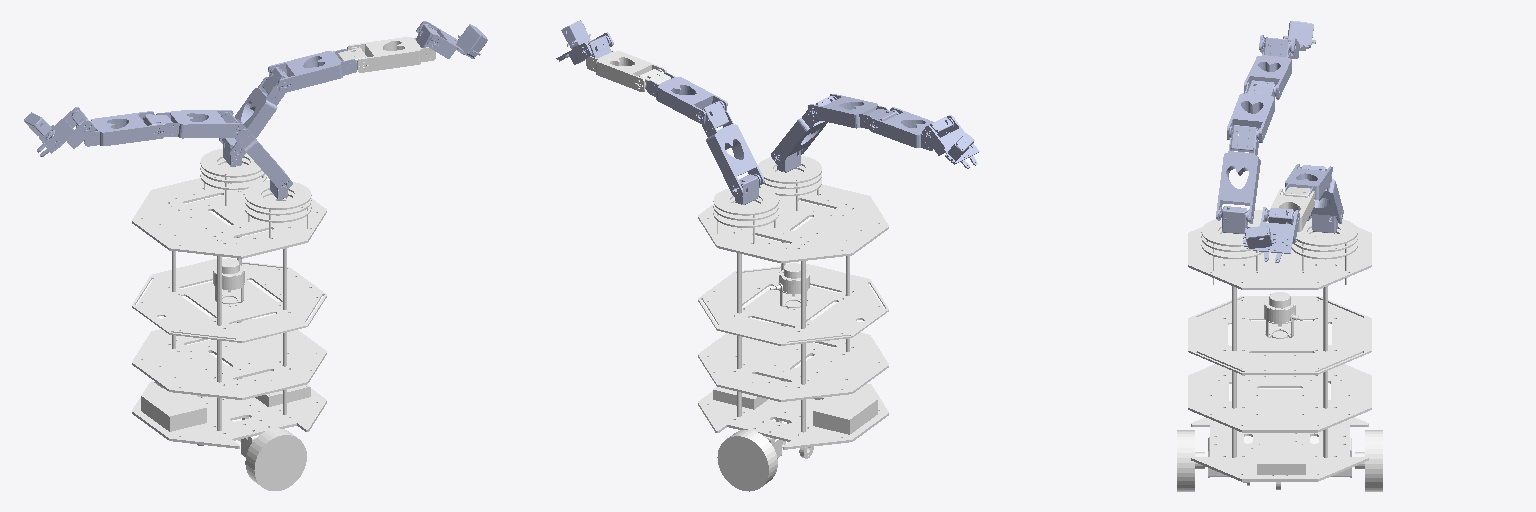
URDF robot description (cleaner_robot):
<?xml version='1.0' encoding='utf-8'?>
<robot name="cleaner_robot">
  <link name="base_link">
    <inertial>
      <origin xyz="-0.000344080345321185 0.000533176091644799 0.125833408068957" rpy="0 0 0" />
      <mass value="1.79792483529716" />
      <inertia ixx="0.00708743967331854" ixy="-1.67250092831856E-06" ixz="-2.56694499270585E-06" iyy="0.00775133225150792" iyz="2.5645780575692E-06" izz="0.0132642473155824" />
    </inertial>
    <visual>
      <origin xyz="0 0 0" rpy="0 0 0" />
      <geometry>
        <mesh filename="package://robot_description/meshes/base_link.STL" />
      </geometry>
      <material name="">
        <color rgba="1 1 1 1" />
      </material>
    </visual>
    <collision>
      <origin xyz="0 0 0" rpy="0 0 0" />
      <geometry>
        <mesh filename="package://robot_description/meshes/base_link.STL" />
      </geometry>
    </collision>
  </link>
  <link name="left_wheel_link">
    <inertial>
      <origin xyz="0 -0.0158823469073751 0" rpy="0 0 0" />
      <mass value="0.245019094238775" />
      <inertia ixx="0.000170397528015319" ixy="2.70954898850681E-20" ixz="-3.69449796828622E-20" iyy="0.000295487774909046" iyz="4.74974642515837E-21" izz="0.000170397528015319" />
    </inertial>
    <visual>
      <origin xyz="0 0 0" rpy="0 0 0" />
      <geometry>
        <mesh filename="package://robot_description/meshes/left_wheel_link.STL" />
      </geometry>
      <material name="">
        <color rgba="1 1 1 1" />
      </material>
    </visual>
    <collision>
      <origin xyz="0 0 0" rpy="0 0 0" />
      <geometry>
        <mesh filename="package://robot_description/meshes/left_wheel_link.STL" />
      </geometry>
    </collision>
  </link>
  <joint name="left_wheel_joint" type="continuous">
    <origin xyz="0 0.16894 -0.0365" rpy="0 0 -0.00029697" />
    <parent link="base_link" />
    <child link="left_wheel_link" />
    <axis xyz="0 -1 0" />
  </joint>
  <link name="right_wheel_link">
    <inertial>
      <origin xyz="2.22044604925031E-16 0.0158823469073751 0" rpy="0 0 0" />
      <mass value="0.245019094238775" />
      <inertia ixx="0.000170397528015319" ixy="-2.24387636901415E-19" ixz="4.70810245114766E-20" iyy="0.000295487774909046" iyz="3.37322214386115E-21" izz="0.000170397528015319" />
    </inertial>
    <visual>
      <origin xyz="0 0 0" rpy="0 0 0" />
      <geometry>
        <mesh filename="package://robot_description/meshes/right_wheel_link.STL" />
      </geometry>
      <material name="">
        <color rgba="1 1 1 1" />
      </material>
    </visual>
    <collision>
      <origin xyz="0 0 0" rpy="0 0 0" />
      <geometry>
        <mesh filename="package://robot_description/meshes/right_wheel_link.STL" />
      </geometry>
    </collision>
  </link>
  <joint name="right_wheel_joint" type="continuous">
    <origin xyz="-0.0001055 -0.16886 -0.0365" rpy="0 0 -0.00029697" />
    <parent link="base_link" />
    <child link="right_wheel_link" />
    <axis xyz="0 1 0" />
  </joint>
  <link name="left_arm_link1">
    <inertial>
      <origin xyz="-0.0069298612607549 0.0005712022527668 0.00694973767568825" rpy="0 0 0" />
      <mass value="0.0736030136096212" />
      <inertia ixx="1.71009547325287E-05" ixy="-1.0044654939204E-08" ixz="1.3046239968496E-06" iyy="3.28183215735376E-05" iyz="1.09734645981564E-08" izz="1.7031597088664E-05" />
    </inertial>
    <visual>
      <origin xyz="0 0 0" rpy="0 0 0" />
      <geometry>
        <mesh filename="package://robot_description/meshes/left_arm_link1.STL" />
      </geometry>
      <material name="">
        <color rgba="0.792156862745098 0.819607843137255 0.933333333333333 1" />
      </material>
    </visual>
    <collision>
      <origin xyz="0 0 0" rpy="0 0 0" />
      <geometry>
        <mesh filename="package://robot_description/meshes/left_arm_link1.STL" />
      </geometry>
    </collision>
  </link>
  <joint name="left_arm_joint1" type="revolute">
    <origin xyz="0.054805 0.077261 0.38578" rpy="1.5708 0 -0.00029697" />
    <parent link="base_link" />
    <child link="left_arm_link1" />
    <axis xyz="0 -1 0" />
    <limit lower="-2.80" upper="2.80" effort="10.0" velocity="1.0" />
  </joint>
  <link name="left_arm_link2">
    <inertial>
      <origin xyz="0.0261792273647214 -0.00691216193949627 0.0443385877435112" rpy="0 0 0" />
      <mass value="0.126148587657752" />
      <inertia ixx="9.31622632507463E-05" ixy="1.27595734721005E-07" ixz="-3.56773187590177E-05" iyy="9.10897191919102E-05" iyz="8.00605871502363E-06" izz="6.84008727854335E-05" />
    </inertial>
    <visual>
      <origin xyz="0 0 0" rpy="0 0 0" />
      <geometry>
        <mesh filename="package://robot_description/meshes/left_arm_link2.STL" />
      </geometry>
      <material name="">
        <color rgba="0.792156862745098 0.819607843137255 0.933333333333333 1" />
      </material>
    </visual>
    <collision>
      <origin xyz="0 0 0" rpy="0 0 0" />
      <geometry>
        <mesh filename="package://robot_description/meshes/left_arm_link2.STL" />
      </geometry>
    </collision>
  </link>
  <joint name="left_arm_joint2" type="revolute">
    <origin xyz="-0.0065705 0.035541 0.0042456" rpy="-1.5708 0 0" />
    <parent link="left_arm_link1" />
    <child link="left_arm_link2" />
    <axis xyz="0.20468 0.9788 0.0069813" />
    <limit lower="-1.80" upper="1.80" effort="10.0" velocity="1.0" />
  </joint>
  <link name="left_arm_link3">
    <inertial>
      <origin xyz="0.0485083228171423 -0.0109867814152197 0.0120300433864008" rpy="0 0 0" />
      <mass value="0.126151768960196" />
      <inertia ixx="4.62683917537397E-05" ixy="9.9396493897661E-06" ixz="-1.04787055604338E-05" iyy="8.90450294553907E-05" iyz="2.06567924600011E-06" izz="0.000117341846648233" />
    </inertial>
    <visual>
      <origin xyz="0 0 0" rpy="0 0 0" />
      <geometry>
        <mesh filename="package://robot_description/meshes/left_arm_link3.STL" />
      </geometry>
      <material name="">
        <color rgba="0.792156862745098 0.819607843137255 0.933333333333333 1" />
      </material>
    </visual>
    <collision>
      <origin xyz="0 0 0" rpy="0 0 0" />
      <geometry>
        <mesh filename="package://robot_description/meshes/left_arm_link3.STL" />
      </geometry>
    </collision>
  </link>
  <joint name="left_arm_joint3" type="revolute">
    <origin xyz="0.074168 -0.016647 0.11174" rpy="0 0 0" />
    <parent link="left_arm_link2" />
    <child link="left_arm_link3" />
    <axis xyz="0.20468 0.9788 0.0069813" />
    <limit lower="-2.20" upper="2.20" effort="10.0" velocity="1.0" />
  </joint>
  <link name="left_arm_link4">
    <inertial>
      <origin xyz="0.0381502566686517 0.00297228914422276 0.0370293720163983" rpy="0 0 0" />
      <mass value="0.126147771338568" />
      <inertia ixx="7.78104305349518E-05" ixy="-7.53563847056212E-06" ixz="-3.8150795616397E-05" iyy="9.34092469739685E-05" iyz="3.70863682277848E-06" izz="8.14331154867161E-05" />
    </inertial>
    <visual>
      <origin xyz="0 0 0" rpy="0 0 0" />
      <geometry>
        <mesh filename="package://robot_description/meshes/left_arm_link4.STL" />
      </geometry>
      <material name="">
        <color rgba="1 1 1 1" />
      </material>
    </visual>
    <collision>
      <origin xyz="0 0 0" rpy="0 0 0" />
      <geometry>
        <mesh filename="package://robot_description/meshes/left_arm_link4.STL" />
      </geometry>
    </collision>
  </link>
  <joint name="left_arm_joint4" type="revolute">
    <origin xyz="0.12921 -0.027062 0.023531" rpy="0.3985 0.72207 0" />
    <parent link="left_arm_link3" />
    <child link="left_arm_link4" />
    <axis xyz="0.14899 0.95664 -0.2503" />
    <limit lower="-2.60" upper="2.60" effort="10.0" velocity="1.0" />
  </joint>
  <link name="left_arm_link5">
    <inertial>
      <origin xyz="0.0166365070755845 -0.00476882113712597 -0.00480347346156407" rpy="0 0 0" />
      <mass value="0.0664694386160321" />
      <inertia ixx="1.97693702056433E-05" ixy="-1.06569329721196E-06" ixz="1.24877876251858E-06" iyy="1.49012039435537E-05" iyz="-3.31688148428128E-07" izz="2.26600442466418E-05" />
    </inertial>
    <visual>
      <origin xyz="0 0 0" rpy="0 0 0" />
      <geometry>
        <mesh filename="package://robot_description/meshes/left_arm_link5.STL" />
      </geometry>
      <material name="">
        <color rgba="0.792156862745098 0.819607843137255 0.933333333333333 1" />
      </material>
    </visual>
    <collision>
      <origin xyz="0 0 0" rpy="0 0 0" />
      <geometry>
        <mesh filename="package://robot_description/meshes/left_arm_link5.STL" />
      </geometry>
    </collision>
  </link>
  <joint name="left_arm_joint5" type="revolute">
    <origin xyz="0.083223 0.012799 0.097966" rpy="-0.51128 -0.65499 0.32931" />
    <parent link="left_arm_link4" />
    <child link="left_arm_link5" />
    <axis xyz="0.20468 0.9788 0.0069813" />
    <limit lower="-3.14" upper="3.14" effort="10.0" velocity="1.0" />
  </joint>
  <link name="left_arm_link6">
    <inertial>
      <origin xyz="-0.00108359366242761 -0.00483143330866981 0.0157749569106866" rpy="0 0 0" />
      <mass value="0.0288704004761344" />
      <inertia ixx="4.0915180826276E-06" ixy="3.12578364108231E-07" ixz="-2.37649825944419E-07" iyy="1.91808524154185E-06" iyz="3.97643093016539E-07" izz="4.74750099099835E-06" />
    </inertial>
    <visual>
      <origin xyz="0 0 0" rpy="0 0 0" />
      <geometry>
        <mesh filename="package://robot_description/meshes/left_arm_link6.STL" />
      </geometry>
      <material name="">
        <color rgba="0.792156862745098 0.819607843137255 0.933333333333333 1" />
      </material>
    </visual>
    <collision>
      <origin xyz="0 0 0" rpy="0 0 0" />
      <geometry>
        <mesh filename="package://robot_description/meshes/left_arm_link6.STL" />
      </geometry>
    </collision>
  </link>
  <joint name="left_arm_joint6" type="fixed">
    <origin xyz="0.049632 -0.024994 -0.016718" rpy="0.23628 0.91488 0" />
    <parent link="left_arm_link5" />
    <child link="left_arm_link6" />
    <axis xyz="0 0 0" />
  </joint>
  <link name="right_arm_link1">
    <inertial>
      <origin xyz="0.000354728859723652 0.00270471202658126 -0.0349701784624039" rpy="0 0 0" />
      <mass value="0.0736030138394422" />
      <inertia ixx="1.71053921210683E-05" ixy="-1.30449849267024E-06" ixz="1.00259785830582E-08" iyy="1.70271597164862E-05" iyz="1.0990530151657E-08" izz="3.28183215760568E-05" />
    </inertial>
    <visual>
      <origin xyz="0 0 0" rpy="0 0 0" />
      <geometry>
        <mesh filename="package://robot_description/meshes/right_arm_link1.STL" />
      </geometry>
      <material name="">
        <color rgba="0.792156862745098 0.819607843137255 0.933333333333333 1" />
      </material>
    </visual>
    <collision>
      <origin xyz="0 0 0" rpy="0 0 0" />
      <geometry>
        <mesh filename="package://robot_description/meshes/right_arm_link1.STL" />
      </geometry>
    </collision>
  </link>
  <joint name="right_arm_joint1" type="revolute">
    <origin xyz="0.05178 -0.073834 0.42133" rpy="0 0 -0.00029697" />
    <parent link="base_link" />
    <child link="right_arm_link1" />
    <axis xyz="-0.20302 -0.97915 0.0069813" />
    <limit lower="-2.80" upper="2.80" effort="10.0" velocity="1.0" />
  </joint>
  <link name="right_arm_link2">
    <inertial>
      <origin xyz="-0.0280691893802798 0.0026484695262327 0.0798030999072736" rpy="0 0 0" />
      <mass value="0.126148583043195" />
      <inertia ixx="9.31618235690418E-05" ixy="1.3111957690714E-07" ixz="3.56908834104233E-05" iyy="9.10901597827384E-05" iyz="-7.94536985001749E-06" izz="6.84008728929245E-05" />
    </inertial>
    <visual>
      <origin xyz="0 0 0" rpy="0 0 0" />
      <geometry>
        <mesh filename="package://robot_description/meshes/right_arm_link2.STL" />
      </geometry>
      <material name="">
        <color rgba="0.792156862745098 0.819607843137255 0.933333333333333 1" />
      </material>
    </visual>
    <collision>
      <origin xyz="0 0 0" rpy="0 0 0" />
      <geometry>
        <mesh filename="package://robot_description/meshes/right_arm_link2.STL" />
      </geometry>
    </collision>
  </link>
  <joint name="right_arm_joint2" type="revolute">
    <origin xyz="0.0018782 0.0042192 -0.035465" rpy="0 0 0" />
    <parent link="right_arm_link1" />
    <child link="right_arm_link2" />
    <axis xyz="0 0 -1" />
    <limit lower="-1.80" upper="1.80" effort="10.0" velocity="1.0" />
  </joint>
  <link name="right_arm_link3">
    <inertial>
      <origin xyz="-0.0485269374948858 0.0109042662535283 0.01203004323139" rpy="0 0 0" />
      <mass value="0.126151767440047" />
      <inertia ixx="4.62347064911695E-05" ixy="9.8668410552125E-06" ixz="1.04822035306423E-05" iyy="8.90787147312364E-05" iyz="-2.04785495223711E-06" izz="0.000117341846669857" />
    </inertial>
    <visual>
      <origin xyz="0 0 0" rpy="0 0 0" />
      <geometry>
        <mesh filename="package://robot_description/meshes/right_arm_link3.STL" />
      </geometry>
      <material name="">
        <color rgba="0.792156862745098 0.819607843137255 0.933333333333333 1" />
      </material>
    </visual>
    <collision>
      <origin xyz="0 0 0" rpy="0 0 0" />
      <geometry>
        <mesh filename="package://robot_description/meshes/right_arm_link3.STL" />
      </geometry>
    </collision>
  </link>
  <joint name="right_arm_joint3" type="revolute">
    <origin xyz="-0.076075 0.012302 0.14721" rpy="0 0 0" />
    <parent link="right_arm_link2" />
    <child link="right_arm_link3" />
    <axis xyz="-0.20302 -0.97915 0.0069813" />
    <limit lower="-2.20" upper="2.20" effort="10.0" velocity="1.0" />
  </joint>
  <link name="right_arm_link4">
    <inertial>
      <origin xyz="-0.0519679316733236 0.0115409737118173 0.00126136628000229" rpy="0 0 0" />
      <mass value="0.126147775129486" />
      <inertia ixx="4.35236244903886E-05" ixy="1.03640736176395E-05" ixz="8.03790477451258E-07" iyy="8.89887136123303E-05" iyz="3.63604638120832E-08" izz="0.000120140457422549" />
    </inertial>
    <visual>
      <origin xyz="0 0 0" rpy="0 0 0" />
      <geometry>
        <mesh filename="package://robot_description/meshes/right_arm_link4.STL" />
      </geometry>
      <material name="">
        <color rgba="0.792156862745098 0.819607843137255 0.933333333333333 1" />
      </material>
    </visual>
    <collision>
      <origin xyz="0 0 0" rpy="0 0 0" />
      <geometry>
        <mesh filename="package://robot_description/meshes/right_arm_link4.STL" />
      </geometry>
    </collision>
  </link>
  <joint name="right_arm_joint4" type="revolute">
    <origin xyz="-0.12926 0.026843 0.023531" rpy="0 0 0" />
    <parent link="right_arm_link3" />
    <child link="right_arm_link4" />
    <axis xyz="-0.20302 -0.97915 0.0069813" />
    <limit lower="-2.60" upper="2.60" effort="10.0" velocity="1.0" />
  </joint>
  <link name="right_arm_link5">
    <inertial>
      <origin xyz="-0.0166445934015594 0.00474052024562623 -0.00480347343569509" rpy="0 0 0" />
      <mass value="0.0664694387667511" />
      <inertia ixx="1.97729809996989E-05" ixy="-1.05740777734211E-06" ixz="-1.24934107149083E-06" iyy="1.48975931542826E-05" iyz="3.29563858476352E-07" izz="2.26600442559092E-05" />
    </inertial>
    <visual>
      <origin xyz="0 0 0" rpy="0 0 0" />
      <geometry>
        <mesh filename="package://robot_description/meshes/right_arm_link5.STL" />
      </geometry>
      <material name="">
        <color rgba="0.792156862745098 0.819607843137255 0.933333333333333 1" />
      </material>
    </visual>
    <collision>
      <origin xyz="0 0 0" rpy="0 0 0" />
      <geometry>
        <mesh filename="package://robot_description/meshes/right_arm_link5.STL" />
      </geometry>
    </collision>
  </link>
  <joint name="right_arm_joint5" type="revolute">
    <origin xyz="-0.12546 0.026005 0.016479" rpy="0 0 0" />
    <parent link="right_arm_link4" />
    <child link="right_arm_link5" />
    <axis xyz="-0.20302 -0.97915 0.0069813" />
    <limit lower="-3.14" upper="3.14" effort="10.0" velocity="1.0" />
  </joint>
  <link name="right_arm_link6">
    <inertial>
      <origin xyz="-0.0115533184838728 0.00854060078148404 0.0105346139657562" rpy="0 0 0" />
      <mass value="0.0288704007298745" />
      <inertia ixx="4.36721419214628E-06" ixy="-6.23795037742455E-09" ixz="-3.70810291945455E-07" iyy="1.89210690099238E-06" iyz="4.61075702078839E-07" izz="4.49778324487071E-06" />
    </inertial>
    <visual>
      <origin xyz="0 0 0" rpy="0 0 0" />
      <geometry>
        <mesh filename="package://robot_description/meshes/right_arm_link6.STL" />
      </geometry>
      <material name="">
        <color rgba="0.792156862745098 0.819607843137255 0.933333333333333 1" />
      </material>
    </visual>
    <collision>
      <origin xyz="0 0 0" rpy="0 0 0" />
      <geometry>
        <mesh filename="package://robot_description/meshes/right_arm_link6.STL" />
      </geometry>
    </collision>
  </link>
  <joint name="right_arm_joint6" type="revolute">
    <origin xyz="-0.048733 0.024741 -0.01773" rpy="0 0 0" />
    <parent link="right_arm_link5" />
    <child link="right_arm_link6" />
    <axis xyz="-0.60012 0.13006 0.78926" />
    <limit lower="-3.14" upper="3.14" effort="10.0" velocity="1.0" />
  </joint>
  <link name="laser_link" />
  <joint name="laser_joint" type="fixed">
    <parent link="base_link" />
    <child link="laser_link" />
    <origin xyz="0.0 0.0 0.032" rpy="0.0 0.0 2.0943951" />
  </joint>
  <link name="imu_link" />
  <joint name="imu_joint" type="fixed">
    <parent link="base_link" />
    <child link="imu_link" />
    <origin xyz="0.0 0.0 -0.09" rpy="0.0 0.0 0.0" />
  </joint>
</robot>

--- What the picture shows (computed from the rendered views, not written in the file) ---
3 views of the same robot in one strip: view 1: azimuth 30°, elevation 25°; view 2: azimuth 150°, elevation 25°; view 3: azimuth 270°, elevation 25° (orthographic).
Robot: cleaner_robot — 17 links, 16 joints (11 revolute, 2 continuous, 3 fixed); root link base_link; default pose: all joints at 0.
Links seen in each view (by area): view 1: base_link, right_wheel_link, left_arm_link3, left_arm_link4, right_arm_link4, right_arm_link3, left_arm_link2, right_arm_link2, right_arm_link5, left_arm_link5, left_arm_link6, right_arm_link6; view 2: base_link, left_wheel_link, left_arm_link2, left_arm_link3, left_arm_link4, right_arm_link4, right_arm_link3, right_arm_link2, right_arm_link5, left_arm_link5, left_arm_link6; view 3: base_link, right_arm_link2, right_arm_link3, right_arm_link4, left_arm_link5, left_wheel_link, right_wheel_link, left_arm_link2, left_arm_link3, left_arm_link4, right_arm_link5, left_arm_link6 (+1 smaller).
Boxes of the visible links, x1,y1,x2,y2 form: base_link: (132,149,326,457); right_wheel_link: (245,428,306,490); left_arm_link3: (262,49,356,95); left_arm_link4: (338,37,435,72); right_arm_link4: (76,111,173,146); right_arm_link3: (156,110,248,142); left_arm_link2: (219,77,284,166); right_arm_link2: (235,119,292,198); right_arm_link5: (39,107,95,153); left_arm_link5: (416,21,472,58); left_arm_link6: (457,24,487,58); right_arm_link6: (24,112,62,156); base_link: (698,156,888,458); left_wheel_link: (717,430,777,491); left_arm_link2: (702,111,764,204); left_arm_link3: (646,72,728,127); left_arm_link4: (586,50,670,91); right_arm_link4: (867,107,949,150); right_arm_link3: (808,94,888,128); right_arm_link2: (771,110,827,172); right_arm_link5: (922,115,979,164); left_arm_link5: (556,32,613,64); left_arm_link6: (559,20,590,61); base_link: (1188,210,1371,489); right_arm_link2: (1216,138,1260,233); right_arm_link3: (1227,87,1274,152); right_arm_link4: (1244,52,1291,99); left_arm_link5: (1253,207,1299,253); left_wheel_link: (1355,430,1382,491); right_wheel_link: (1177,430,1204,491); left_arm_link2: (1307,179,1343,233); left_arm_link3: (1285,164,1332,199); left_arm_link4: (1268,187,1314,231); right_arm_link5: (1259,35,1305,58); left_arm_link6: (1243,225,1288,262).
Size in the robot's own frame: 0.8215 by 0.3378 by 0.6829 metres.
13 mesh visuals loaded from 15 distinct referenced files (13 binary STL); not drawn: 2 (reference not matched to a file when rendering).
